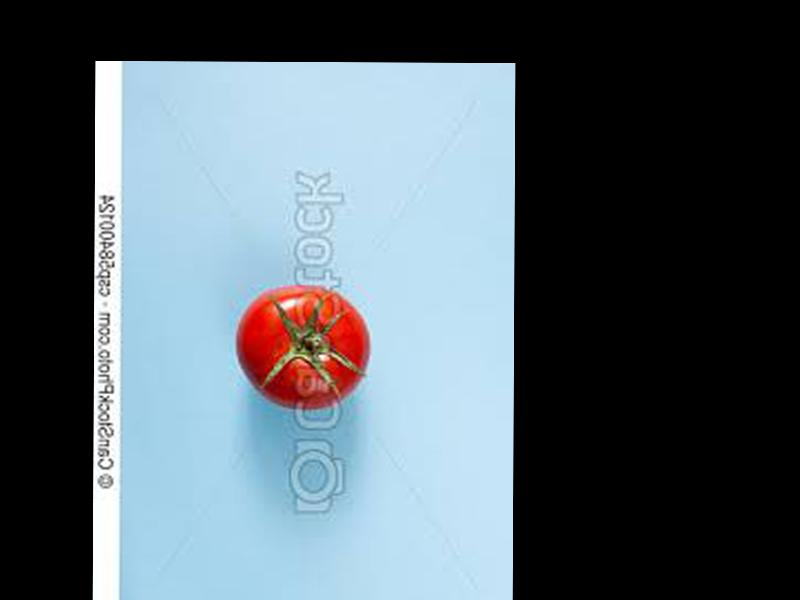Tomato: (233, 286, 369, 407)
